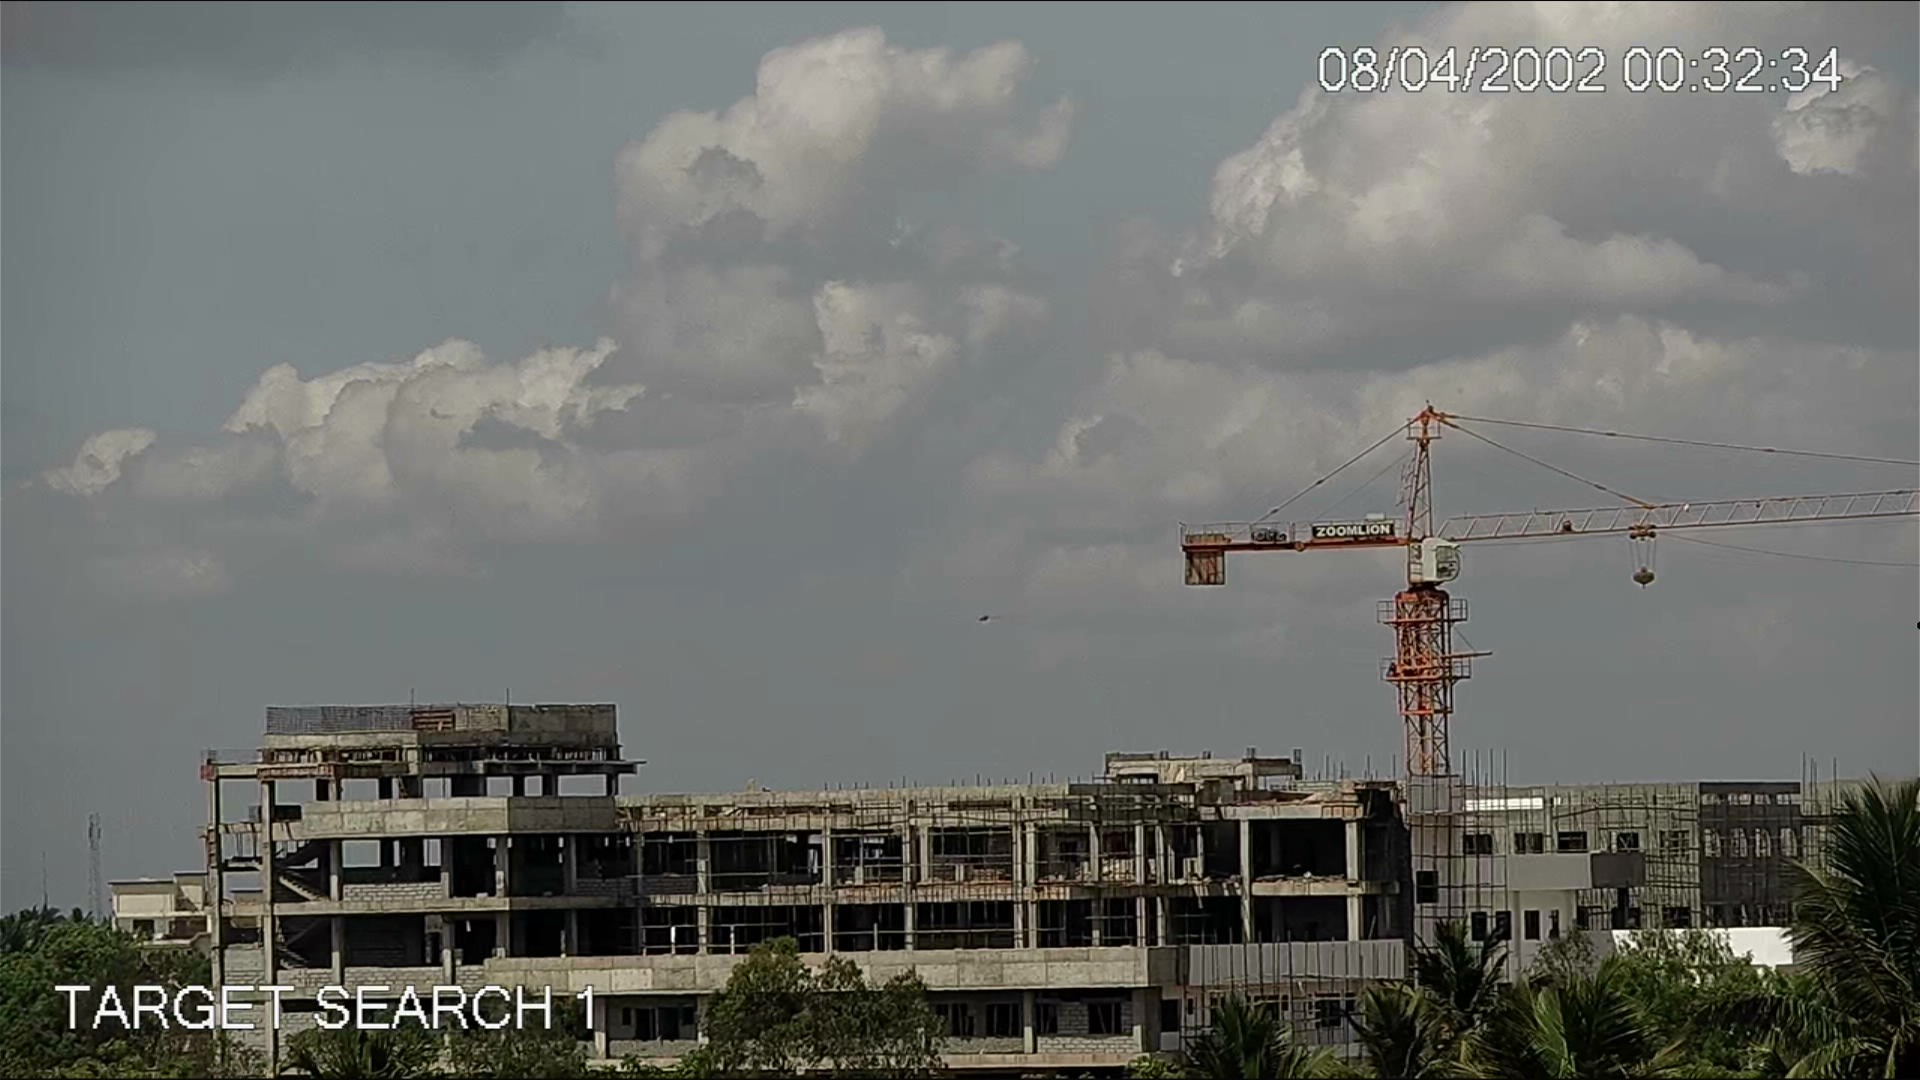SU_30: (973, 611, 1007, 624)
